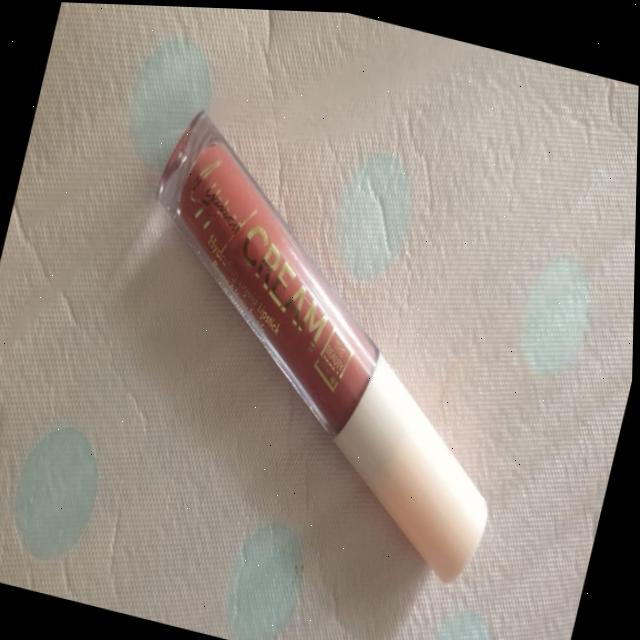lip gloss: (45, 76, 583, 607)
